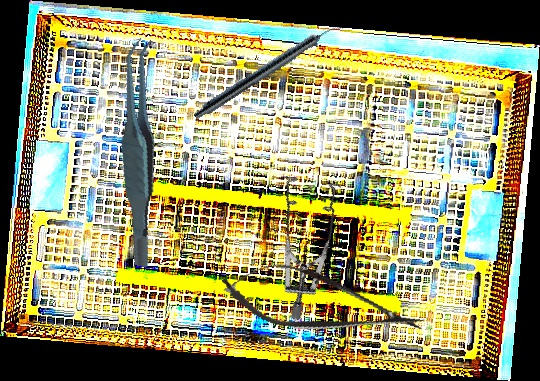Handpiece: (191, 17, 345, 125)
Micro Scissor: (214, 251, 432, 355)
Speculum: (217, 154, 383, 323)
Tissue Forceps: (84, 36, 195, 268)
